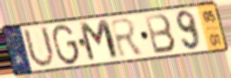9: (173, 8, 202, 53)
B: (143, 12, 178, 56)
G: (51, 23, 82, 67)
M: (76, 17, 122, 65)
R: (108, 16, 146, 60)
U: (21, 25, 57, 70)
